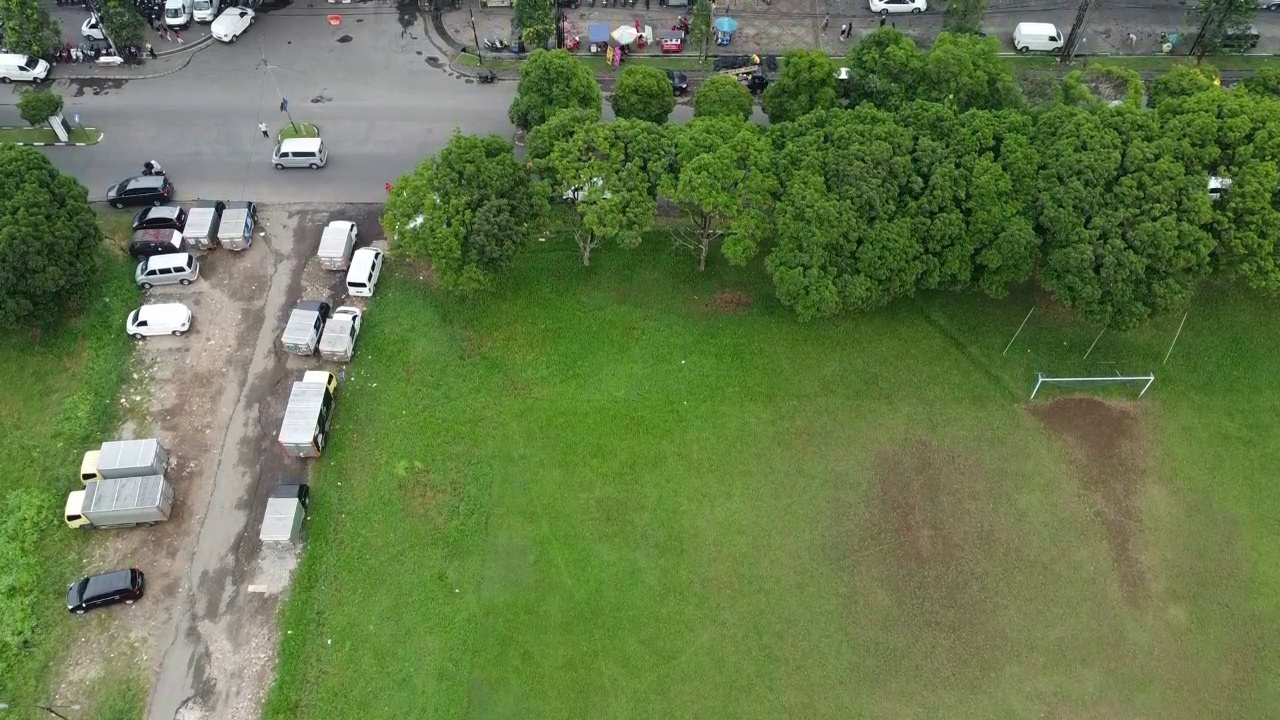mobil: (63, 566, 154, 617), (125, 300, 196, 345), (339, 240, 388, 304), (268, 131, 337, 174), (205, 3, 265, 52), (101, 171, 180, 208), (135, 250, 203, 290), (1008, 16, 1071, 57), (130, 201, 192, 234), (127, 225, 182, 260), (1, 51, 54, 85), (867, 1, 935, 15)
